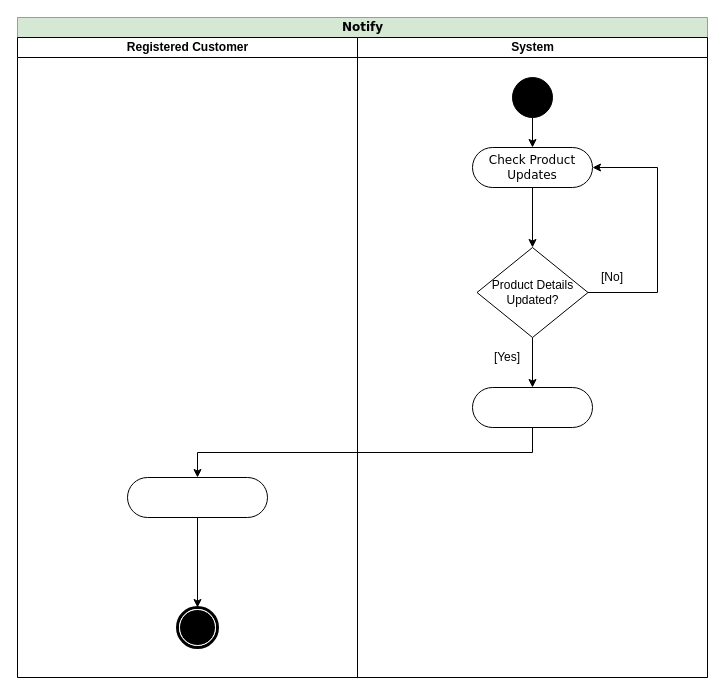
Some shapes in this 725 by 695 pixel diagram are drawn without their labels. The centre of each missing label's shape, as x and y in pixels:
"Recieve Notification" belongs at pixel 197 497.
"Send Notification" belongs at pixel 532 407.
